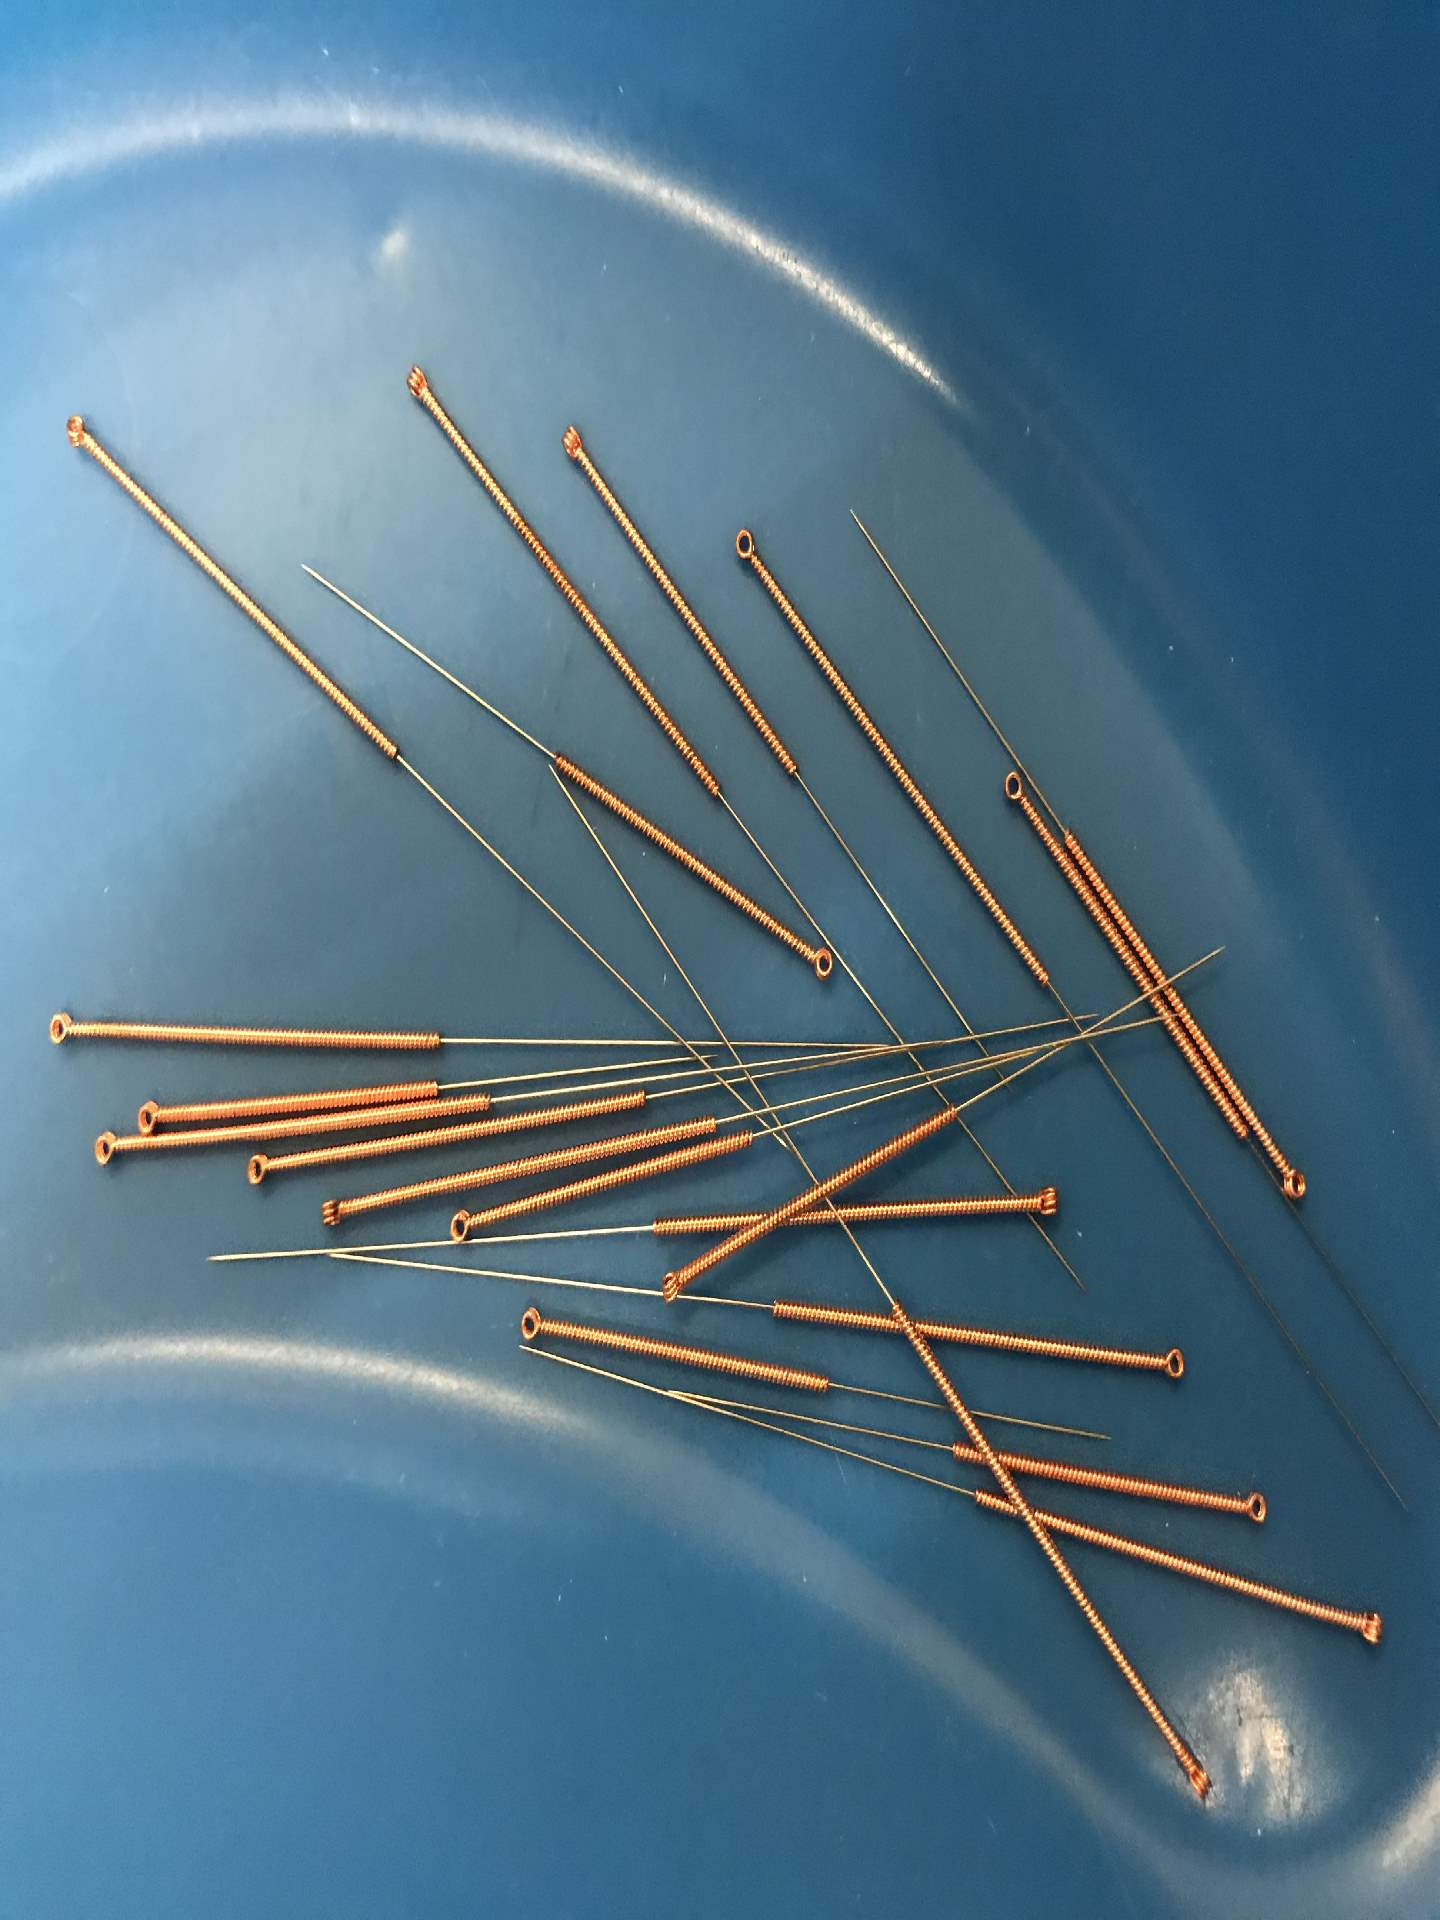needle: (1227, 1479, 1283, 1539), (1172, 1748, 1225, 1810), (30, 1002, 89, 1055), (1340, 1595, 1390, 1655), (722, 514, 768, 578), (390, 358, 445, 413), (48, 404, 101, 460), (1147, 1336, 1198, 1394), (545, 417, 594, 472), (1272, 1154, 1317, 1211), (307, 1188, 358, 1235), (507, 1299, 554, 1349), (1023, 1178, 1069, 1228), (82, 1122, 126, 1175), (992, 762, 1036, 815), (796, 940, 843, 989), (440, 1202, 487, 1247), (234, 1147, 281, 1191), (650, 1261, 694, 1308), (132, 1096, 175, 1138)
